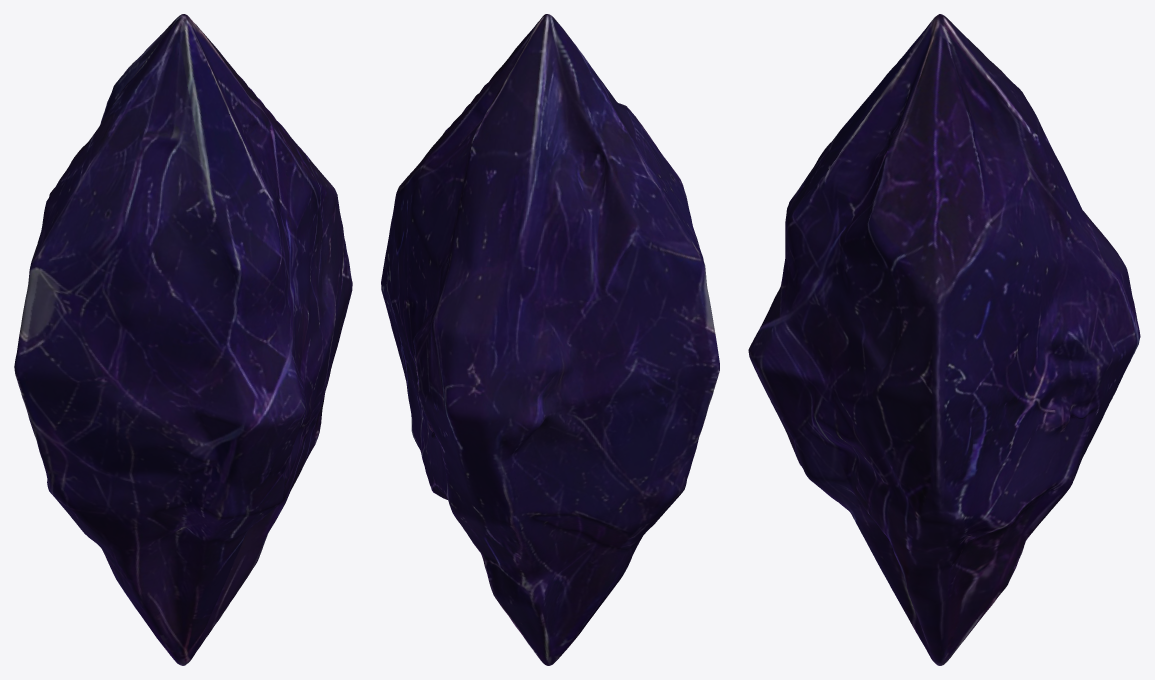
The model's file is crystal-core.glb.
3 renders of one model, left to right at view 1: azimuth 30°, elevation 25°; view 2: azimuth 150°, elevation 25°; view 3: azimuth 270°, elevation 25°, orthographic.
Parts seen in each view (by area): view 1: tripo_node_4044841f; view 2: tripo_node_4044841f; view 3: tripo_node_4044841f.
Part boxes in pixels (box(x1,y1,x2,y2)): tripo_node_4044841f: box(14, 14, 352, 665); tripo_node_4044841f: box(381, 14, 719, 665); tripo_node_4044841f: box(748, 14, 1140, 665).
Bounding box in the file's own units: 26.74 × 49.18 × 26.82.
Materials: 1 (1 with a texture image).
